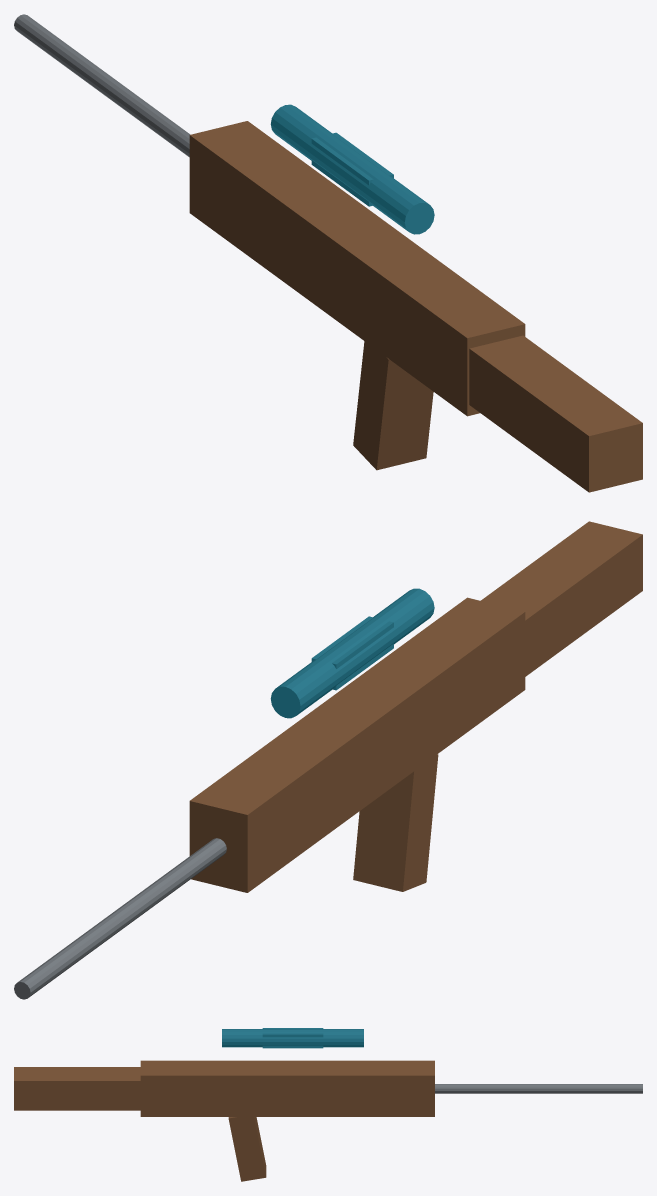
The model's file is hunting_rifle.glb.
The picture shows the model from 3 angles, top to bottom: view 1: azimuth 30°, elevation 25°; view 2: azimuth 150°, elevation 25°; view 3: azimuth 270°, elevation 25°; orthographic projection. The views are drawn at different scales.
Parts seen in each view (by area): view 1: p0, p3, p2, p4, p1, p5; view 2: p0, p3, p2, p4, p1, p5; view 3: p0, p3, p4, p1, p2, p5.
Boxes of the visible parts, x1,y1,x2,y2 form: p0: (189, 121, 525, 416); p3: (469, 335, 642, 492); p2: (353, 341, 433, 470); p4: (270, 104, 434, 234); p1: (14, 14, 190, 157); p5: (311, 132, 393, 206); p0: (189, 597, 525, 892); p3: (481, 521, 642, 676); p2: (353, 754, 438, 891); p4: (270, 588, 434, 718); p1: (14, 838, 226, 999); p5: (311, 616, 393, 690); p0: (140, 1060, 434, 1116); p3: (14, 1067, 140, 1110); p4: (222, 1029, 363, 1047); p1: (435, 1084, 642, 1093); p2: (228, 1117, 266, 1181); p5: (262, 1028, 323, 1048).
Size of the model in its own units: 0.07 by 0.3163 by 1.24.
